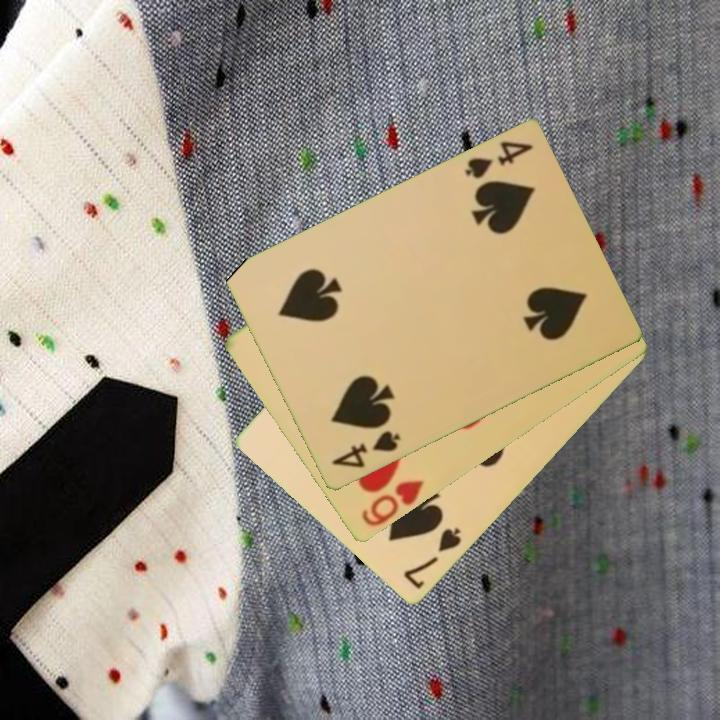4s: (327, 427, 403, 472), (460, 138, 536, 183)
6h: (357, 476, 427, 530)
7s: (400, 524, 464, 593)
